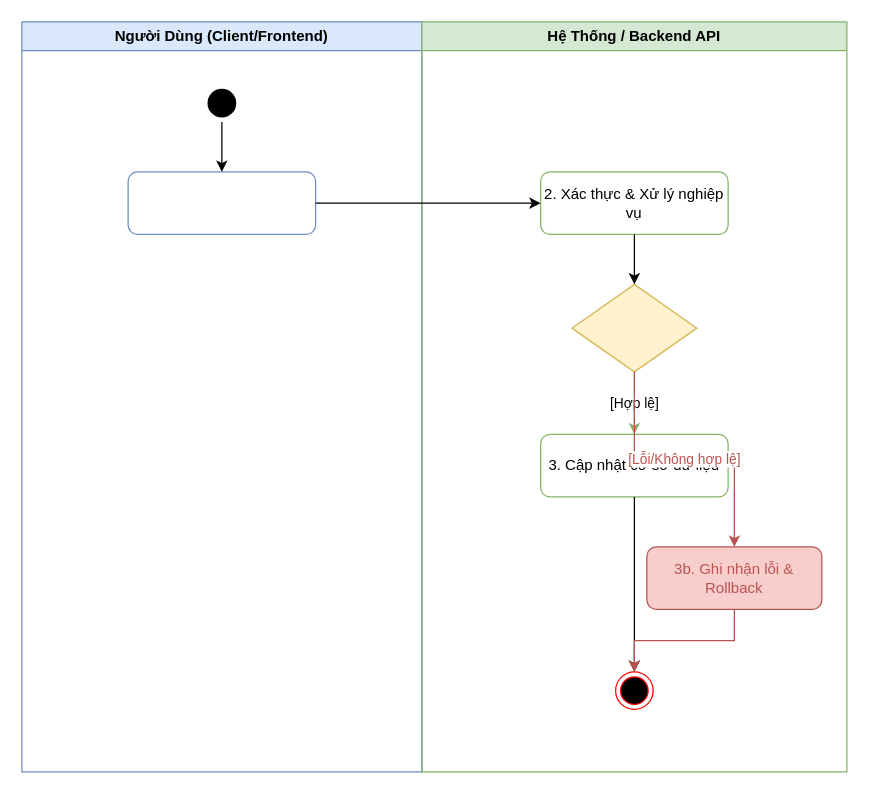
This 869x794 diagram has some shape labels left out. The centre of each missing label's shape, as x and y in pixels:
"1. Gửi yêu cầu thao tác" belongs at pixel 221 202.
"Dữ liệu hợp lệ?" belongs at pixel 634 327.
